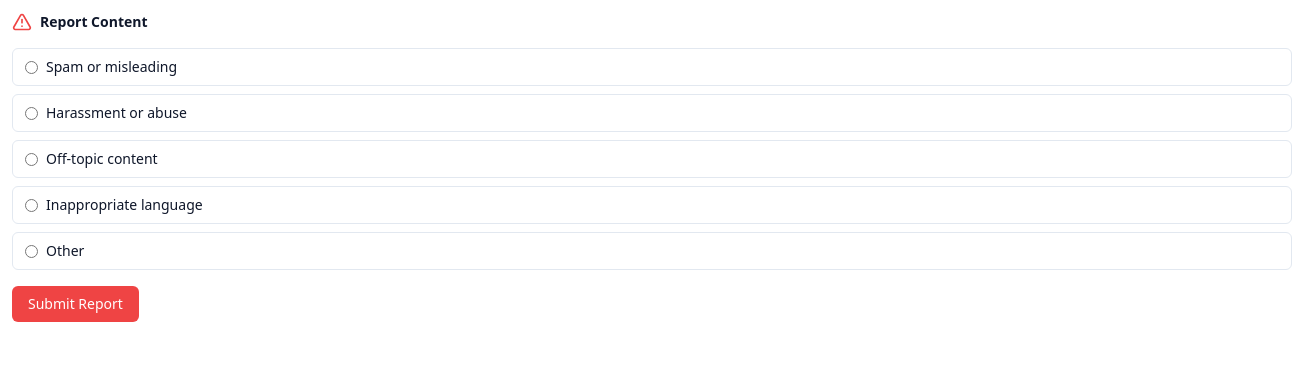
FlagForm › clears error on successful submission
The width and height of the screenshot is (1292, 372).
// Submit without reason to trigger error
Click the button with test id "flag-submit-btn".
click(75, 304)  # box [12,286,139,322]
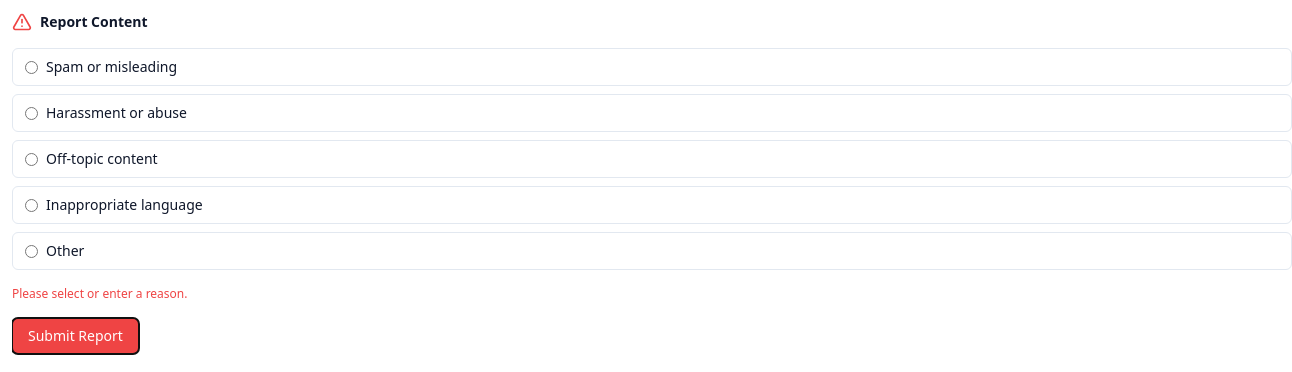
Now the text "Please select or enter a reason." is shown, box [12,285,188,302]
// Select reason and submit again
Click the label with test id "flag-reason-spam-or-misleading".
click(112, 66)  # box [12,48,1291,86]
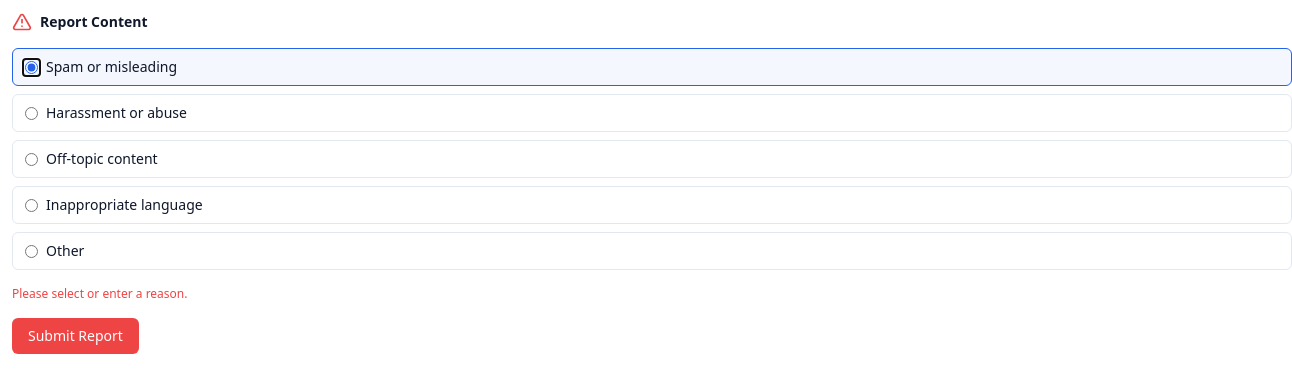
Click the button with test id "flag-submit-btn".
click(75, 336)  # box [12,318,139,354]
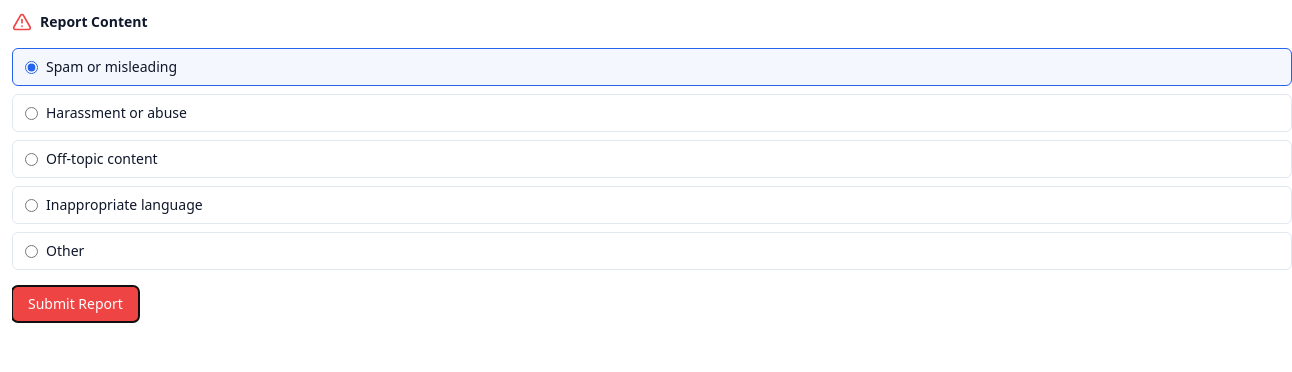
Now the text with test id "flag-error" is gone
